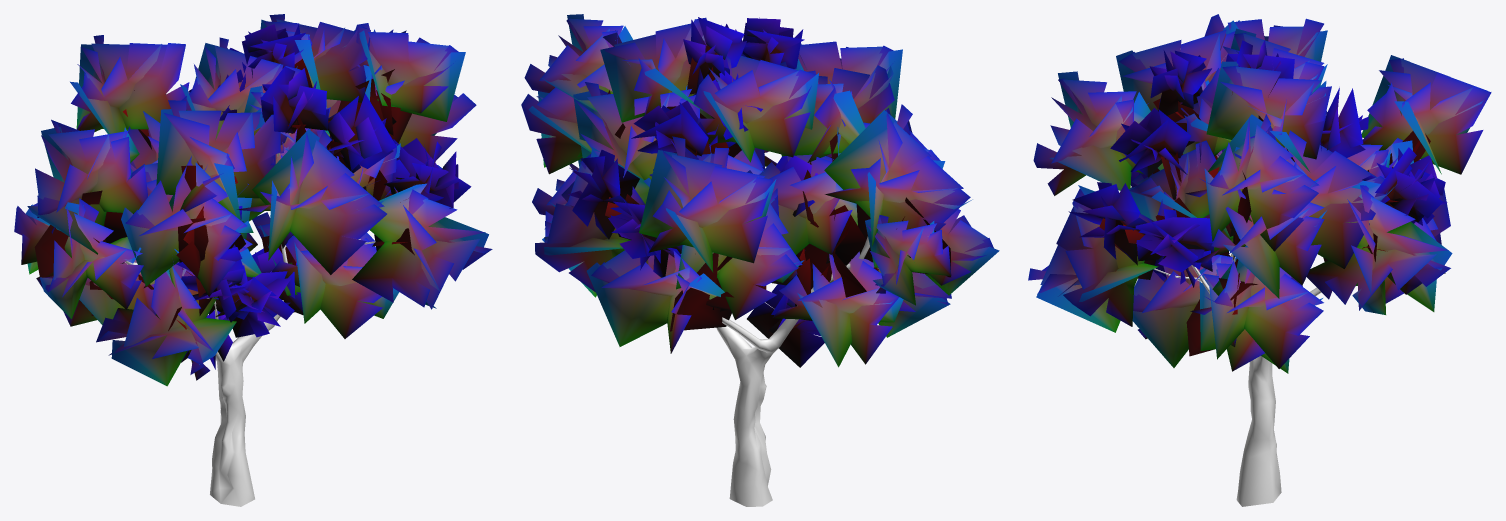
3 renders of one model, left to right at view 1: azimuth 30°, elevation 25°; view 2: azimuth 150°, elevation 25°; view 3: azimuth 270°, elevation 25°, orthographic. The views are drawn at different scales.
Parts seen in each view (by area): view 1: Circle_162; view 2: Circle_162; view 3: Circle_162.
Boxes of the visible parts, box(x1,y1,x2,y2) form: Circle_162: box(14, 14, 492, 506); Circle_162: box(521, 14, 999, 506); Circle_162: box(1028, 14, 1491, 506).
Bounding box in the file's own units: 8.51 × 7.53 × 8.52.
